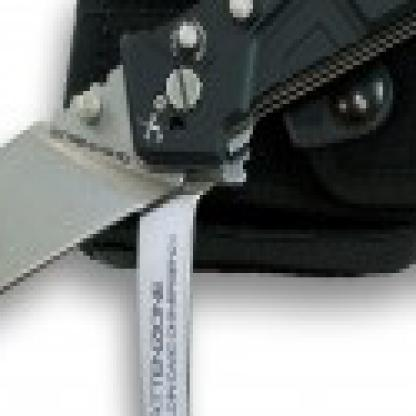knife: (0, 56, 167, 408)
